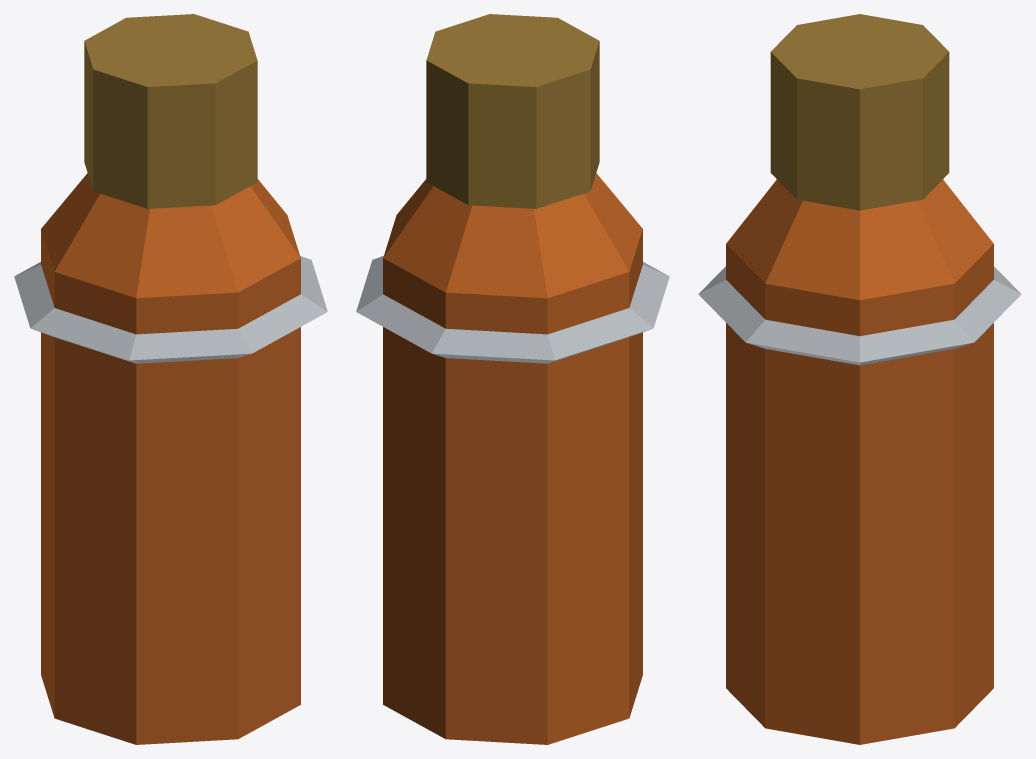
Rendered from vial.glb.
3 views of the same model, side by side, from view 1: azimuth 30°, elevation 25°; view 2: azimuth 150°, elevation 25°; view 3: azimuth 270°, elevation 25° (orthographic).
Visible parts, largest first — view 1: m; view 2: m; view 3: m.
Part boxes in pixels (x1,y1,x2,y2): m: (14,14,327,744); m: (356,14,669,744); m: (698,14,1021,744).
Size of the model in its own units: 0.0272 by 0.06 by 0.0272.
